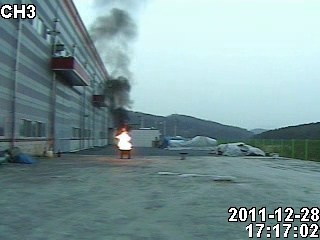fire: (114, 127, 132, 152)
smoke: (95, 2, 144, 117)
